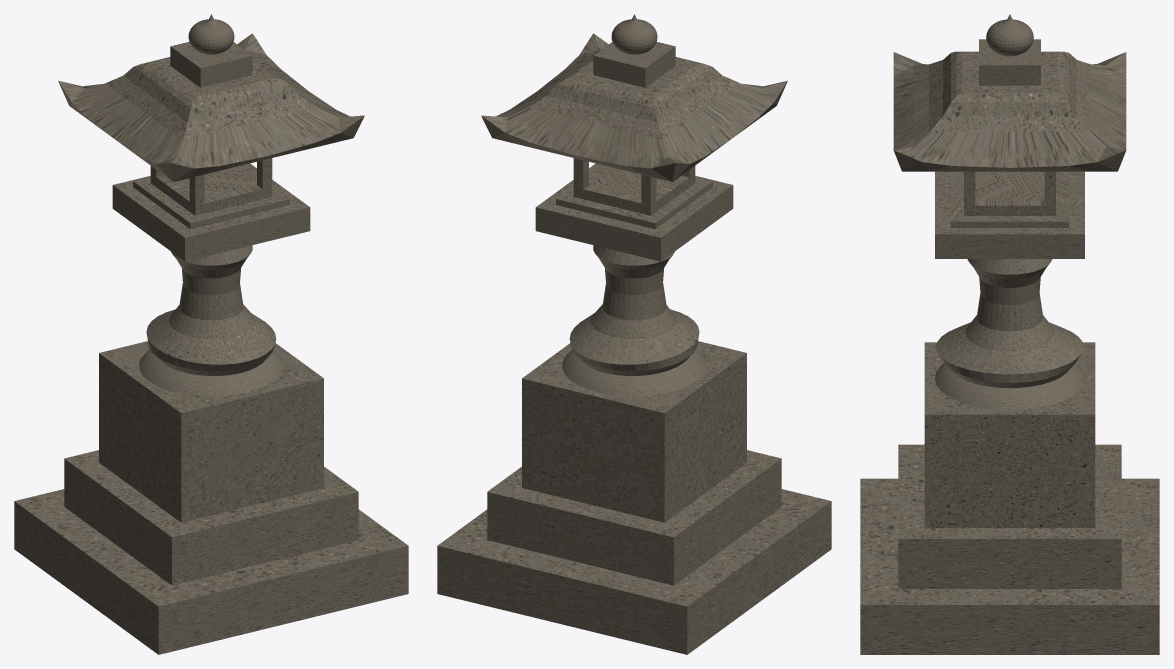
The model's file is stone_lantern.obj.
3 renders of one model, left to right at view 1: azimuth 30°, elevation 25°; view 2: azimuth 150°, elevation 25°; view 3: azimuth 270°, elevation 25°, orthographic. The views are drawn at different scales.
Parts seen in each view (by area): view 1: tourou; view 2: tourou; view 3: tourou.
Part boxes in pixels (box(x1,y1,x2,y2)): tourou: box(14, 14, 408, 654); tourou: box(437, 14, 831, 654); tourou: box(860, 14, 1159, 654).
Size of the model in its own units: 8.75 by 18.66 by 8.75.
